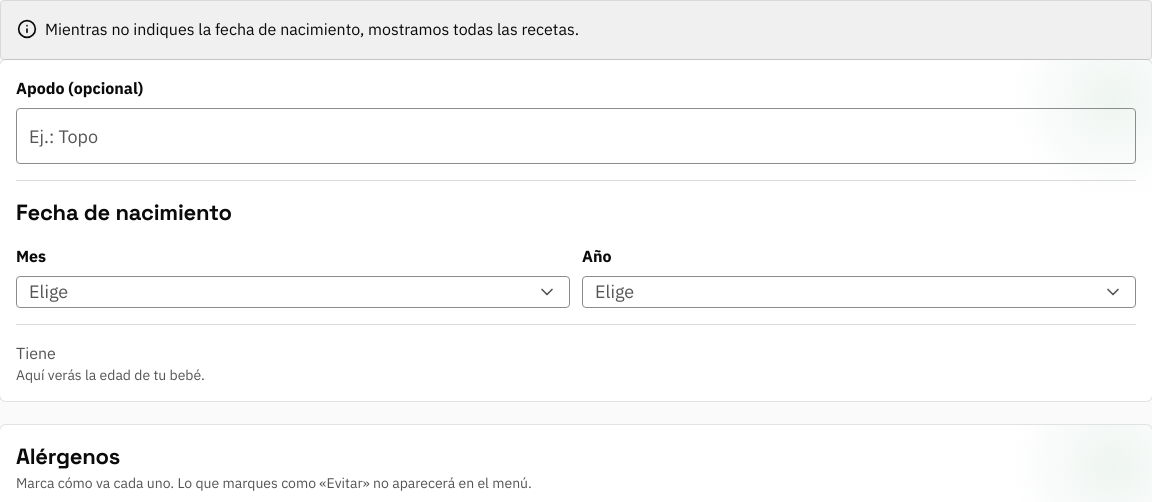
perfil del bebé › elige mes y año y calcula la edad al momento
Expected: the text "mostramos todas las recetas" is shown, [45,19,579,39]
Click the dropdown named "Mes": click(49, 292) [16,276,570,308]
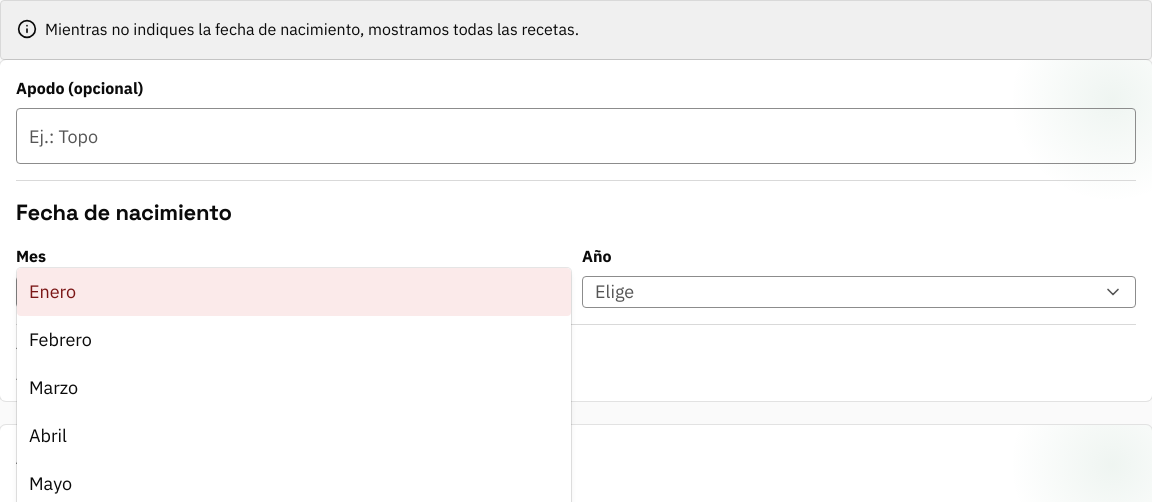
Click the option "Marzo": click(54, 388) [29,376,78,399]
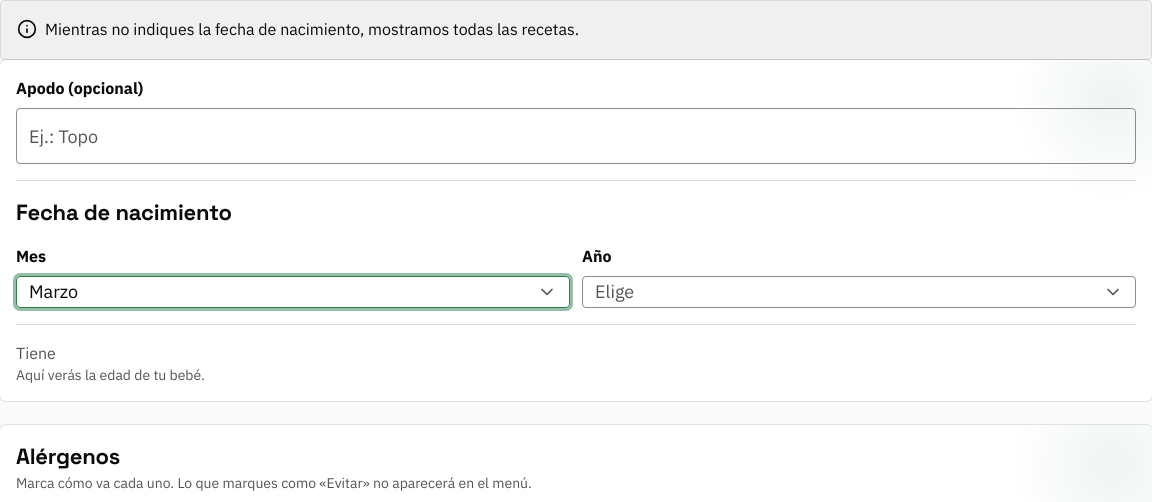
Click the dropdown named "Año": click(615, 292) [582,276,1136,308]
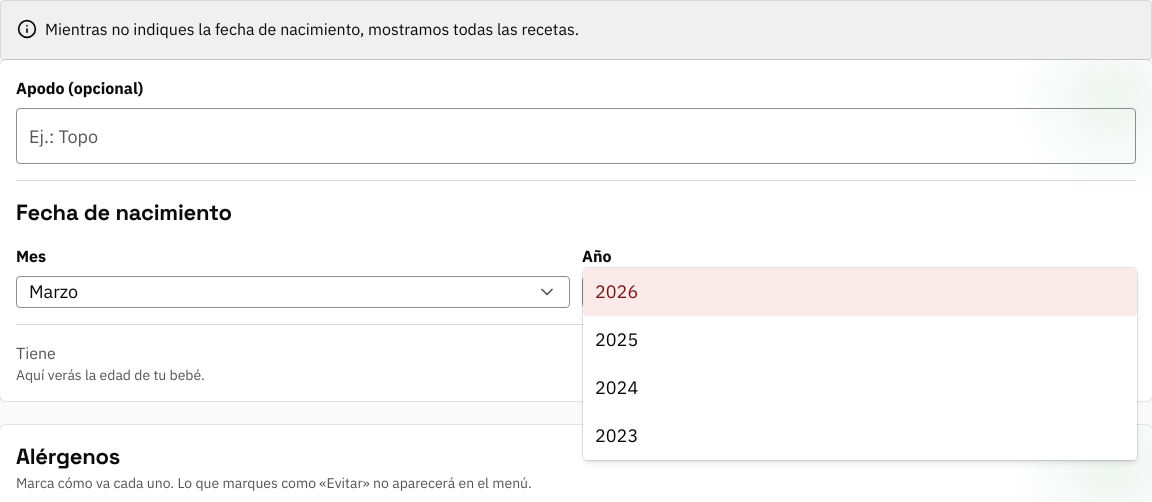
Click the option "2026": click(617, 292) [583,268,1137,316]
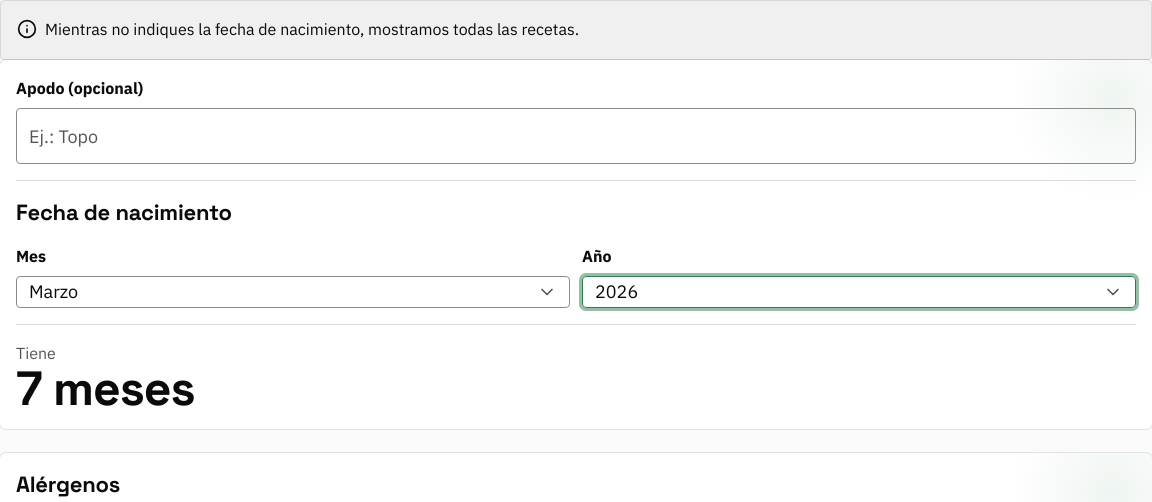
Expected: the text "7 meses" is shown, [16,358,195,419]
